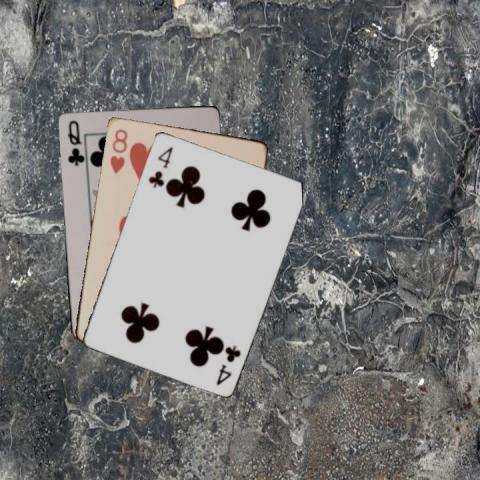4c: (145, 144, 174, 190), (213, 342, 242, 387)
8h: (107, 125, 129, 175)
Qc: (65, 116, 84, 166)
